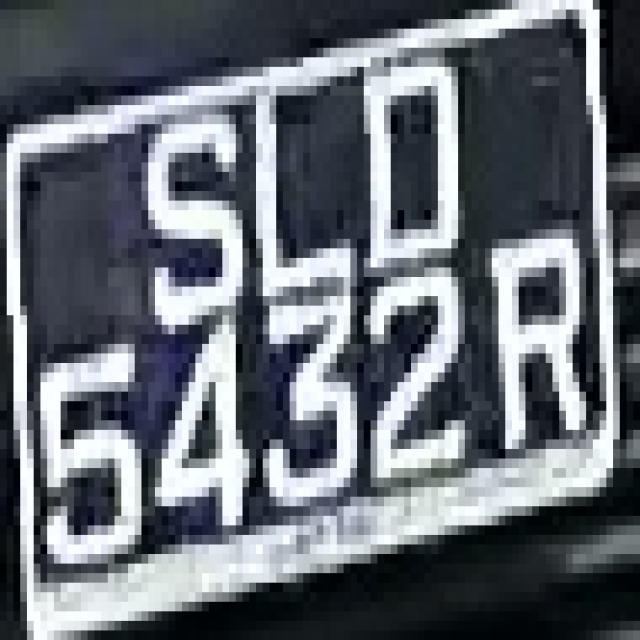2: (350, 267, 472, 497)
3: (250, 239, 350, 544)
4: (115, 306, 262, 544)
5: (34, 325, 155, 592)
D: (350, 48, 458, 286)
L: (236, 76, 364, 306)
R: (485, 201, 613, 468)
S: (121, 86, 256, 325)
